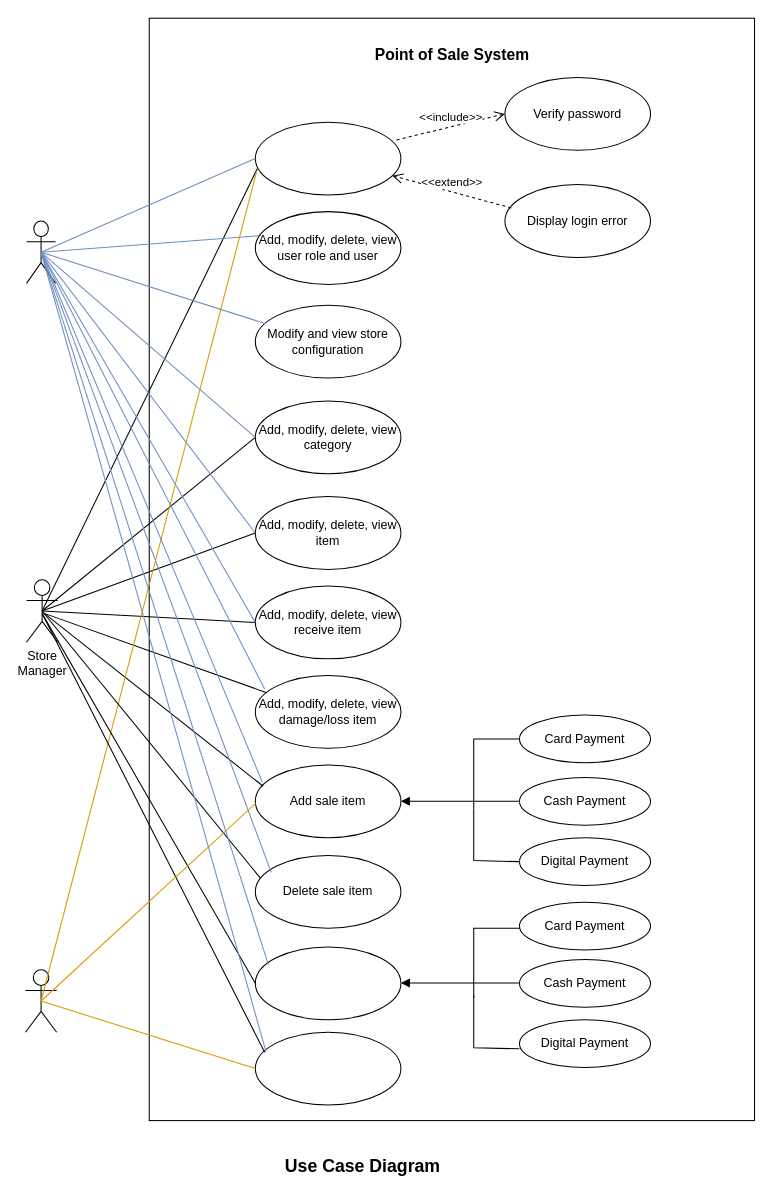
Image size: 773x1201. Some labels were removed from this diagram. Here are the shapes that lost their labels. From the top down, the centre of each, then its label:
At (327,158): "Log in".
At (40,251): "Admin".
At (40,1000): "Cashier".
At (327,983): "Modify sale item".
At (327,1068): "View sale item".
